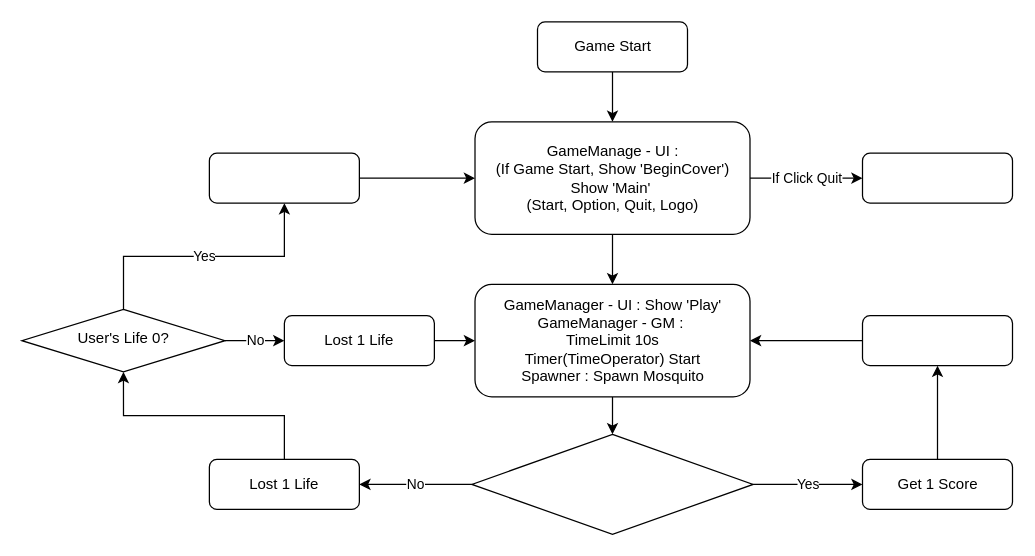
Image size: 1035x556. Some labels were removed from this diagram. Here are the shapes that lost their labels. From the top down, the centre of each, then its label:
pixel 283 177: GameOver Show Result
pixel 936 177: Quit the game
pixel 936 340: If Score >= 5, >= 10 Difficulty Up
pixel 612 483: Kill the Mosquito in time limit?
